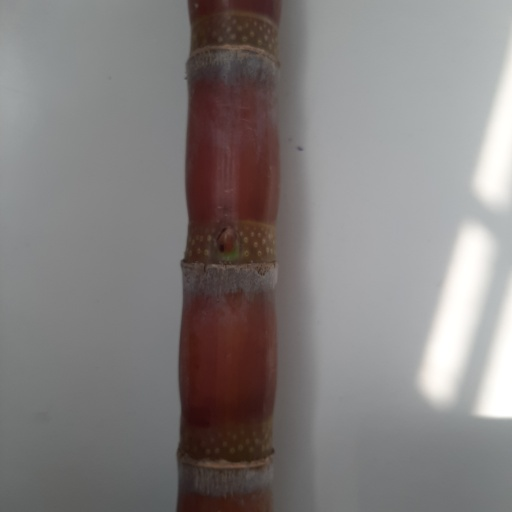Bud: (217, 225, 239, 256)
